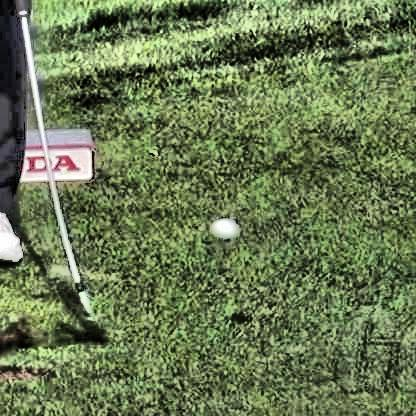golfball: (207, 215, 239, 239)
